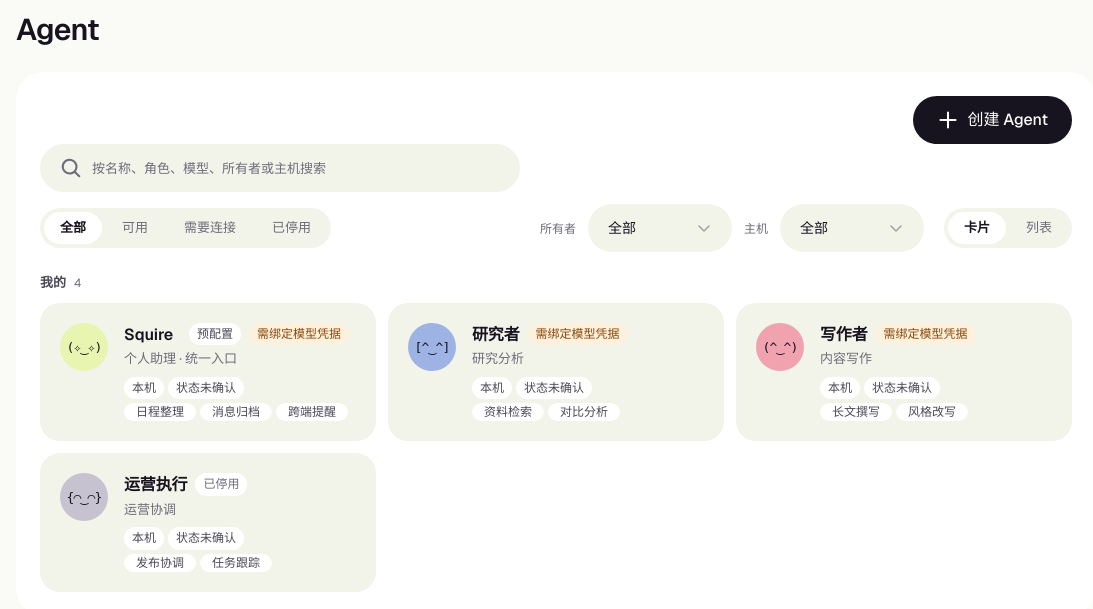
it: Agent 详情的管理面板（默认无数据） › 预览详情没有凭据页签，也不伪造成功
This screenshot has width=1093, height=609.
Step 1. Click the button with test id "contact-agent-squire" → x=84, y=347, box x1=40 y1=303 x2=376 y2=441
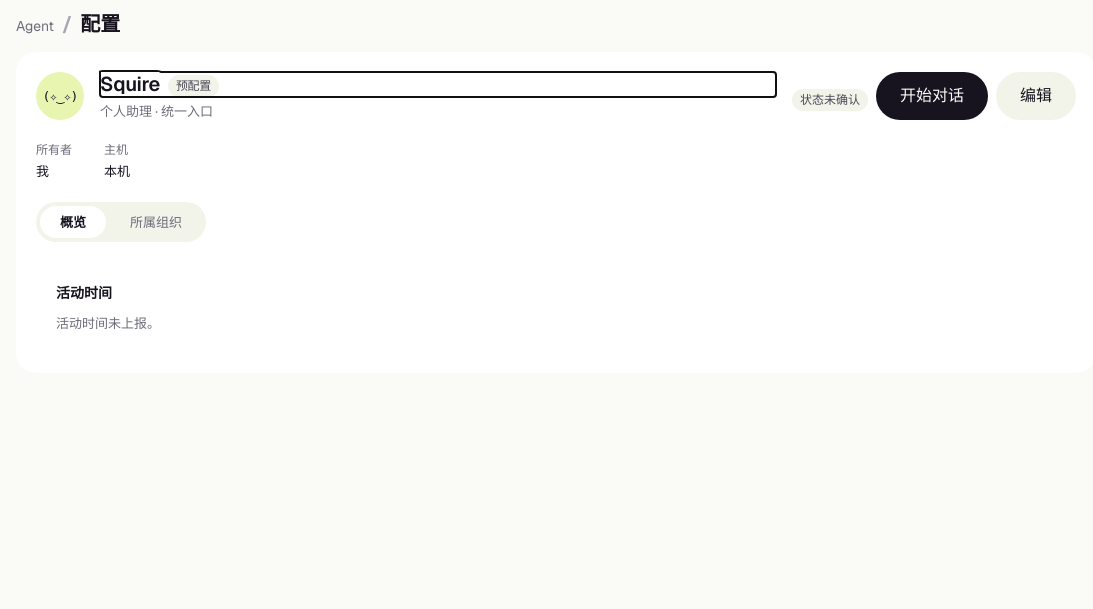
Expected: the button "凭据" is gone
